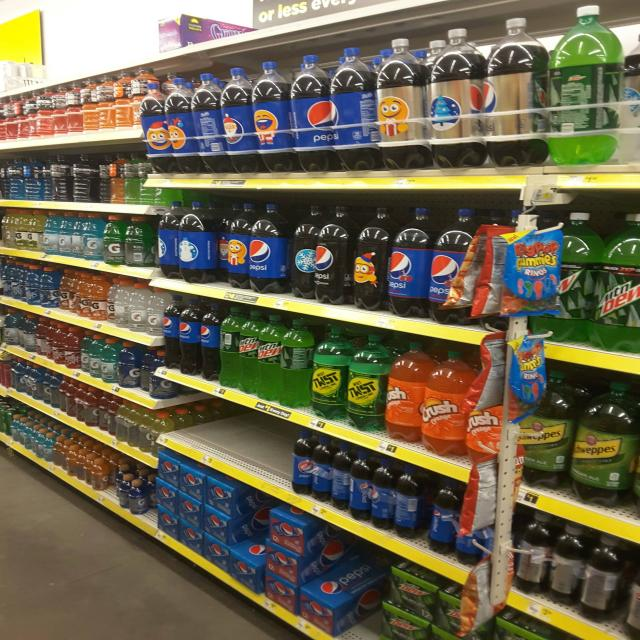empty: (168, 380, 291, 472)
